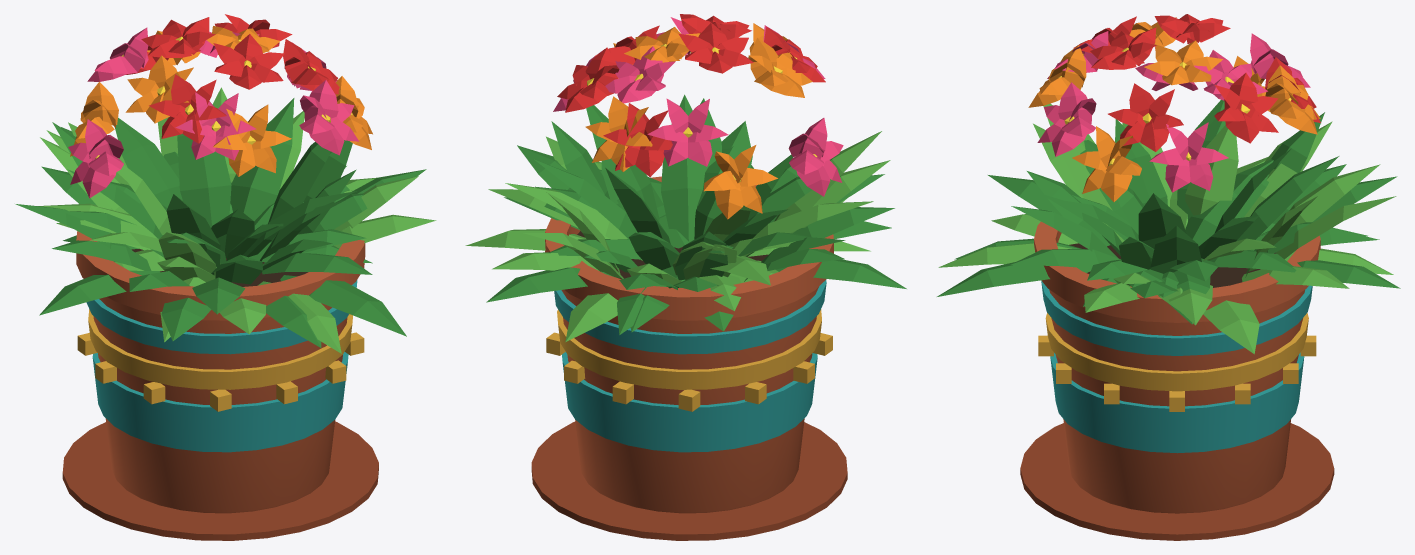
File: planta-flores-maceta.glb
The picture shows the model from 3 angles, left to right: view 1: azimuth 30°, elevation 25°; view 2: azimuth 150°, elevation 25°; view 3: azimuth 270°, elevation 25°; orthographic projection.
Visible parts, largest first — view 1: Planta_Flores_HojaChica, Planta_Flores_Terracota, Planta_Flores_FranjaTurquesa, Planta_Flores_TerracotaOscura, Planta_Flores_HojaChicaClara, Planta_Flores_FlorRosa, Planta_Flores_FlorRoja, Planta_Flores_FranjaMostaza, Planta_Flores_FlorNaranja; view 2: Planta_Flores_HojaChica, Planta_Flores_Terracota, Planta_Flores_FranjaTurquesa, Planta_Flores_HojaChicaClara, Planta_Flores_TerracotaOscura, Planta_Flores_FlorRoja, Planta_Flores_FranjaMostaza, Planta_Flores_FlorNaranja, Planta_Flores_FlorRosa; view 3: Planta_Flores_HojaChica, Planta_Flores_Terracota, Planta_Flores_HojaChicaClara, Planta_Flores_FranjaTurquesa, Planta_Flores_TerracotaOscura, Planta_Flores_FlorRoja, Planta_Flores_FlorNaranja, Planta_Flores_FlorRosa, Planta_Flores_FranjaMostaza, Planta_Flores_Tierra.
Part boxes in pixels (x1=…): Planta_Flores_HojaChica: x1=15, y1=98, x2=426, y2=347; Planta_Flores_Terracota: x1=76, y1=231, x2=365, y2=513; Planta_Flores_FranjaTurquesa: x1=86, y1=280, x2=357, y2=452; Planta_Flores_TerracotaOscura: x1=62, y1=421, x2=378, y2=540; Planta_Flores_HojaChicaClara: x1=37, y1=87, x2=436, y2=353; Planta_Flores_FlorRosa: x1=68, y1=27, x2=359, y2=198; Planta_Flores_FlorRoja: x1=126, y1=14, x2=339, y2=143; Planta_Flores_FranjaMostaza: x1=77, y1=309, x2=364, y2=411; Planta_Flores_FlorNaranja: x1=70, y1=26, x2=372, y2=176; Planta_Flores_HojaChica: x1=486, y1=94, x2=906, y2=334; Planta_Flores_Terracota: x1=545, y1=176, x2=833, y2=513; Planta_Flores_FranjaTurquesa: x1=554, y1=280, x2=826, y2=452; Planta_Flores_HojaChicaClara: x1=465, y1=131, x2=890, y2=341; Planta_Flores_TerracotaOscura: x1=531, y1=421, x2=847, y2=540; Planta_Flores_FlorRoja: x1=557, y1=14, x2=825, y2=177; Planta_Flores_FranjaMostaza: x1=546, y1=309, x2=832, y2=411; Planta_Flores_FlorNaranja: x1=585, y1=23, x2=812, y2=219; Planta_Flores_FlorRosa: x1=553, y1=17, x2=843, y2=196; Planta_Flores_HojaChica: x1=937, y1=100, x2=1400, y2=324; Planta_Flores_Terracota: x1=1034, y1=221, x2=1320, y2=513; Planta_Flores_HojaChicaClara: x1=938, y1=103, x2=1396, y2=354; Planta_Flores_FranjaTurquesa: x1=1041, y1=281, x2=1312, y2=453; Planta_Flores_TerracotaOscura: x1=1020, y1=423, x2=1334, y2=540; Planta_Flores_FlorRoja: x1=1073, y1=14, x2=1320, y2=151; Planta_Flores_FlorNaranja: x1=1028, y1=17, x2=1320, y2=201; Planta_Flores_FlorRosa: x1=1037, y1=31, x2=1310, y2=192; Planta_Flores_FranjaMostaza: x1=1038, y1=313, x2=1316, y2=411; Planta_Flores_Tierra: x1=1069, y1=243, x2=1275, y2=287.
Size of the model in its own units: 0.6308 by 0.7237 by 0.653.
